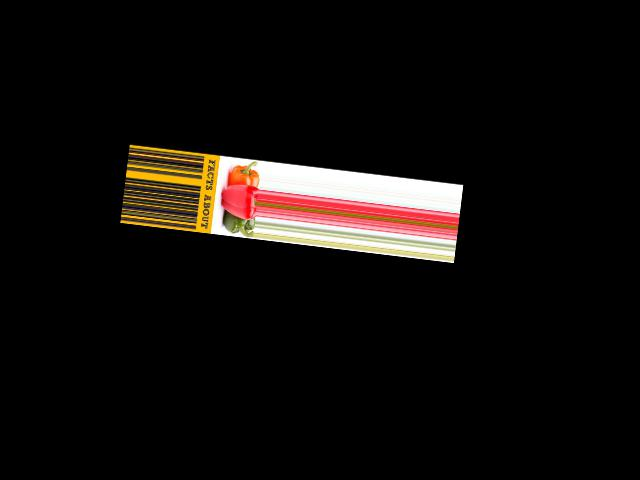bell_pepper: (216, 213, 254, 237)
